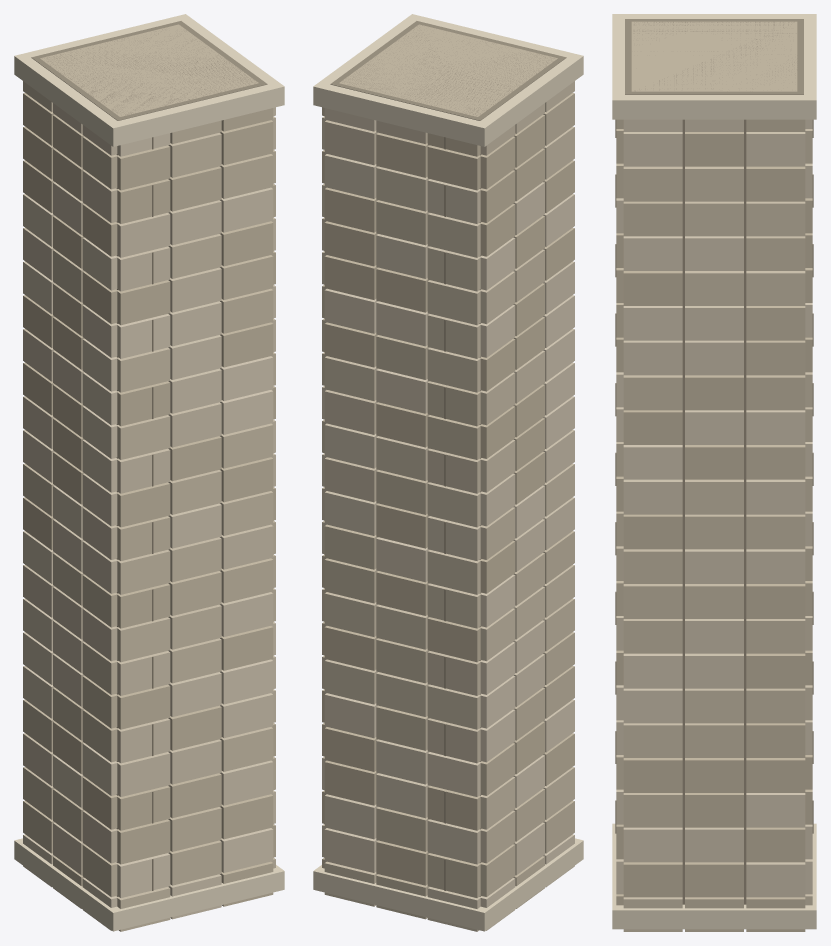
3 views of the same model, side by side, from view 1: azimuth 30°, elevation 25°; view 2: azimuth 150°, elevation 25°; view 3: azimuth 270°, elevation 25° (orthographic). The views are drawn at different scales.
Parts seen in each view (by area): view 1: Bergfried – Steine, Säulen, Ziegel und Feuerstelle; view 2: Bergfried – Steine, Säulen, Ziegel und Feuerstelle; view 3: Bergfried – Steine, Säulen, Ziegel und Feuerstelle.
Boxes of the visible parts, x1,y1,x2,y2 form: Bergfried – Steine, Säulen, Ziegel und Feuerstelle: (14,14,284,931); Bergfried – Steine, Säulen, Ziegel und Feuerstelle: (313,14,583,931); Bergfried – Steine, Säulen, Ziegel und Feuerstelle: (612,14,816,931).
Bounding box in the file's own units: 222 × 1000 × 222.
